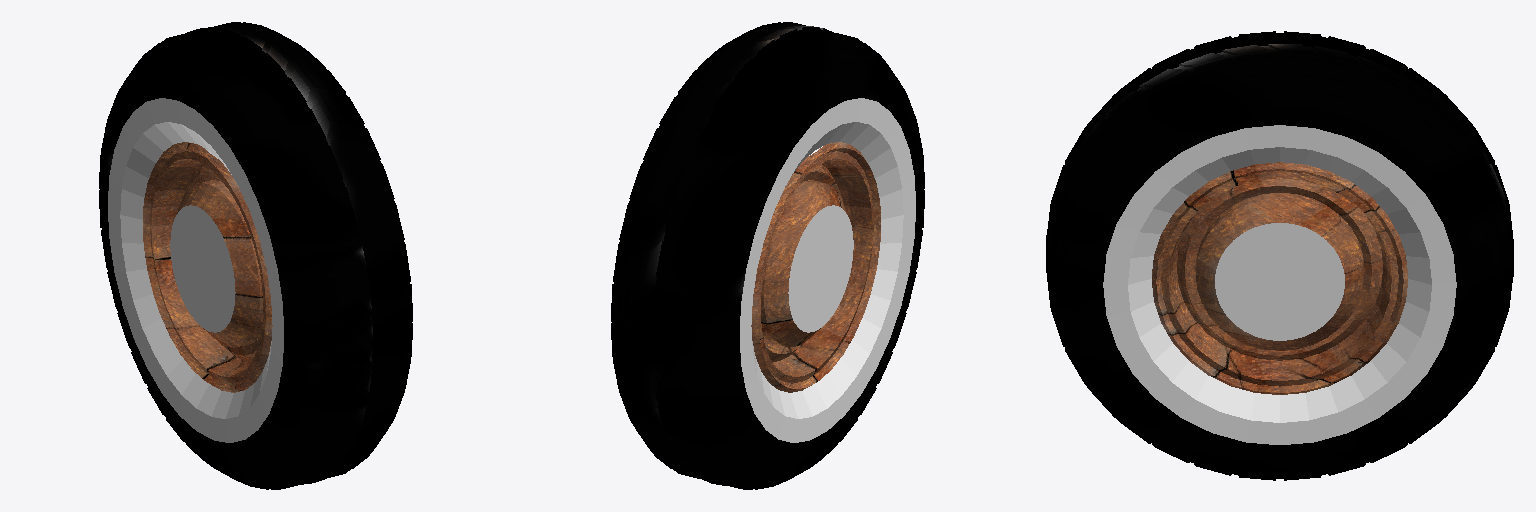
3 renders of one model, left to right at view 1: azimuth 30°, elevation 25°; view 2: azimuth 150°, elevation 25°; view 3: azimuth 270°, elevation 25°, orthographic.
Parts seen in each view (by area): view 1: tyre_Cylinder.001; view 2: tyre_Cylinder.001; view 3: tyre_Cylinder.001.
Boxes of the visible parts, x1,y1,x2,y2 form: tyre_Cylinder.001: [99, 22, 412, 489]; tyre_Cylinder.001: [611, 22, 924, 489]; tyre_Cylinder.001: [1046, 31, 1513, 480].
Size of the model in its own units: 0.6582 by 2.23 by 2.23.
1 materials, 1 textured.